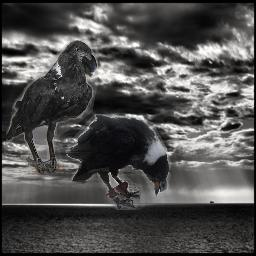Crow: (6, 40, 98, 174), (66, 114, 171, 210)
